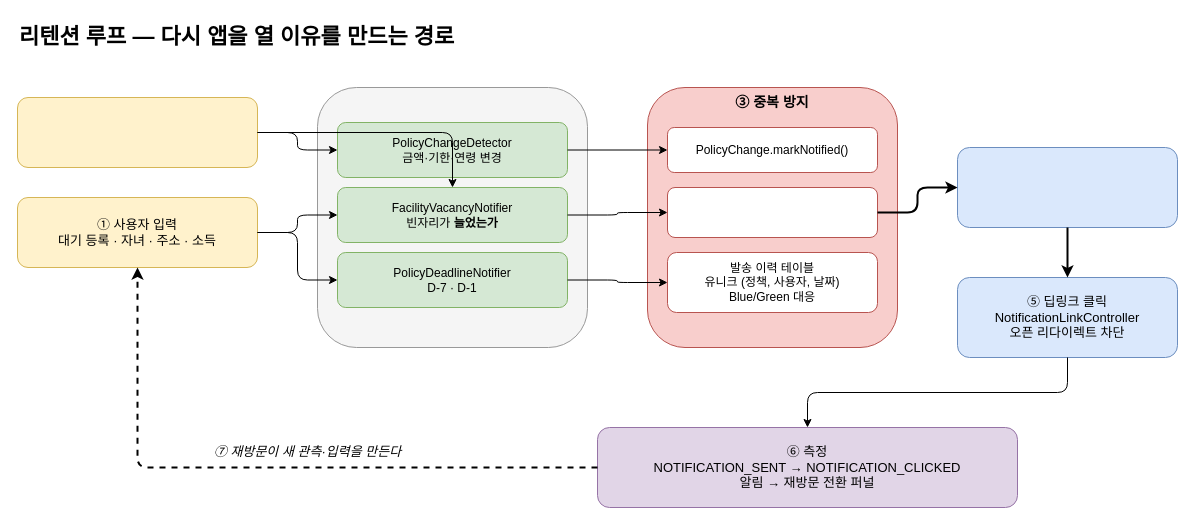
The diagram is 1195 pixels wide and 525 high, and some of its shapes have lost their labels. Each missing label, with the box of its shape:
vacancyNotifiedAt 최소 간격 14일: (666, 186, 878, 238)
① 관측 축적 정원 스냅샷 · 정책 변경 이력: (16, 96, 258, 168)
② 감지: (316, 86, 588, 348)
④ 발송 NotificationDispatcher EMAIL · PUSH · SMS: (956, 146, 1178, 228)
